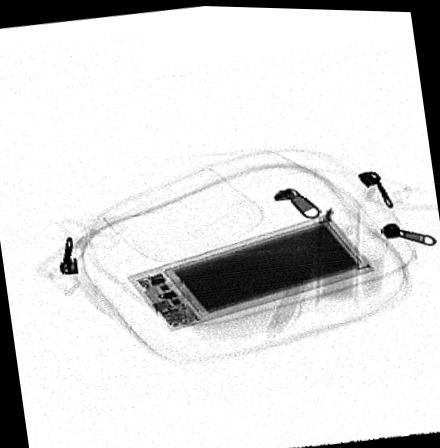Powerbank: (126, 213, 377, 331)
